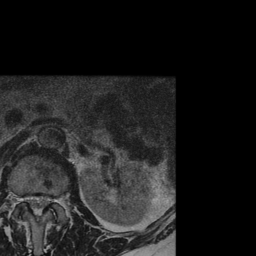CCS_normal: (33, 185, 41, 226)
LFS_stenosis: (49, 185, 58, 211)
LLS_normal: (41, 185, 49, 217)
RFS_stenosis: (18, 186, 26, 209)
RLS_normal: (25, 185, 33, 214)
